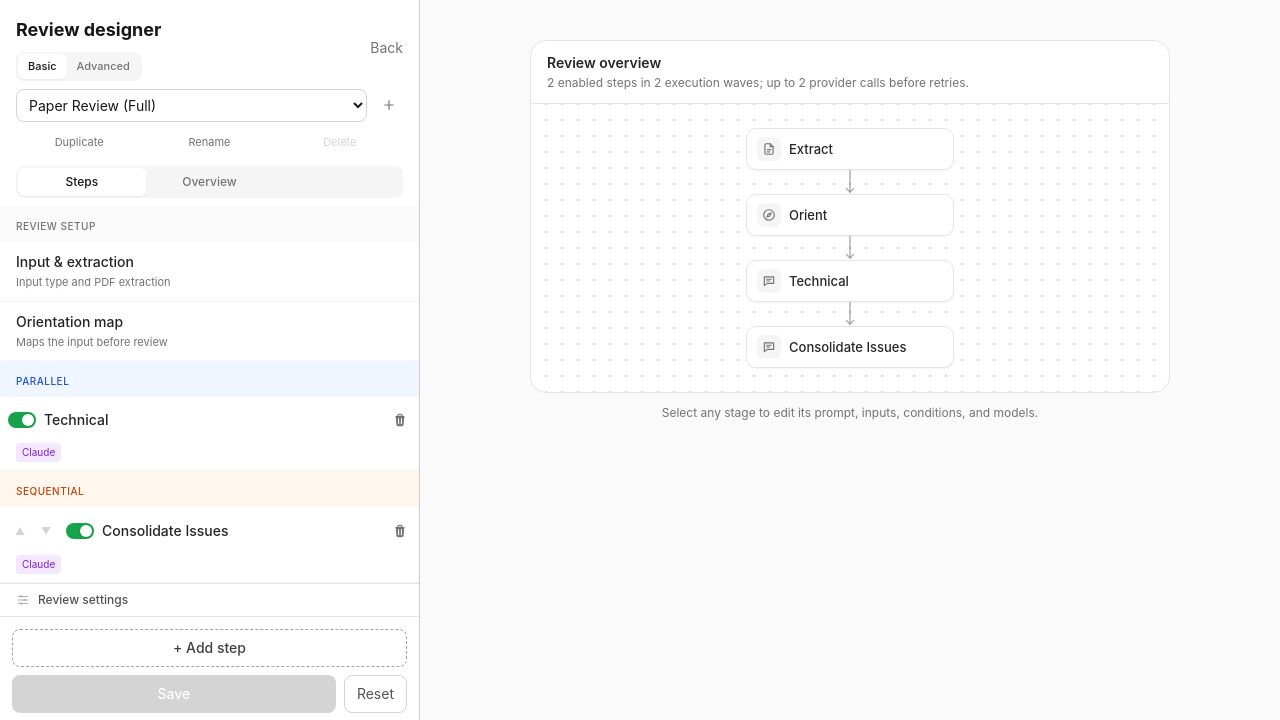
PipelinePage › uses the app's word for a review in designer dialogs
The image size is (1280, 720).
Click the button named "New review" at (389, 105), box x1=375 y1=91 x2=403 y2=119
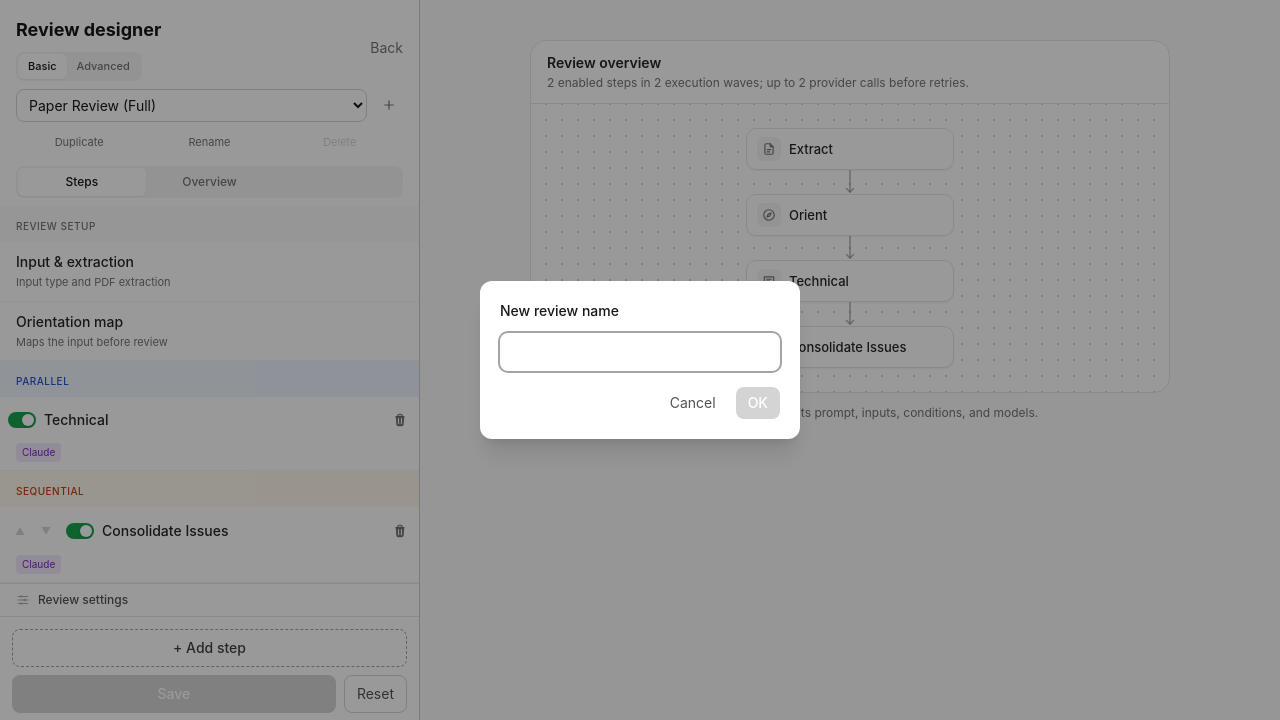
Expected: the dialog does not show "profile", x1=480 y1=281 x2=800 y2=439
Now the dialog shows "New review name", box x1=500 y1=302 x2=619 y2=319
Press Escape
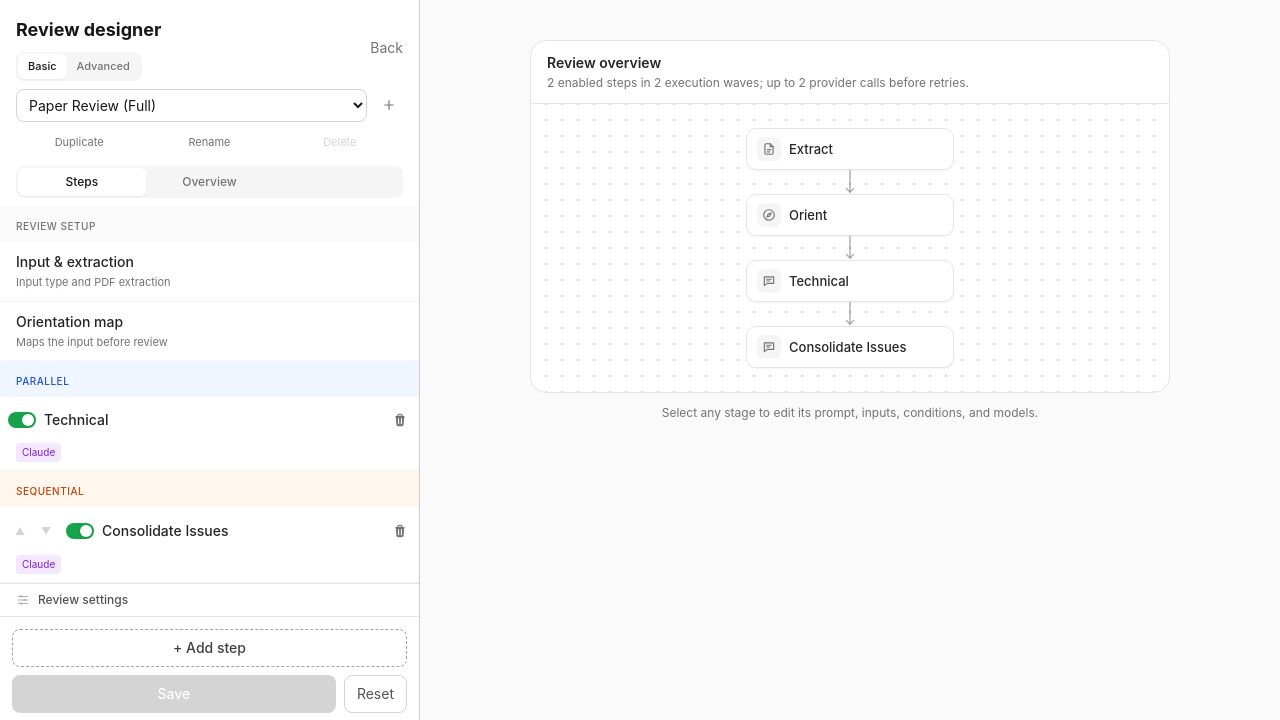
Click the button "Rename" at (209, 142), box x1=146 y1=130 x2=273 y2=154
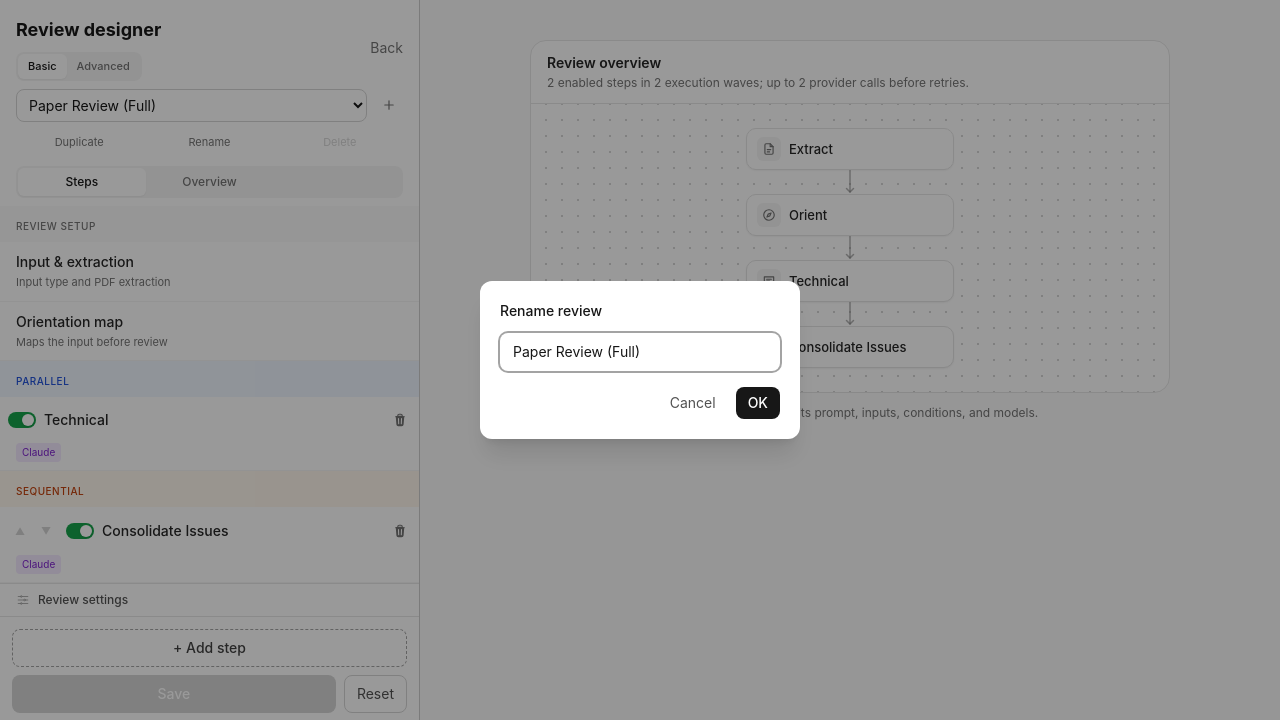
Expected: the dialog does not show "profile", x1=480 y1=281 x2=800 y2=439
Now the dialog shows "Rename review", box x1=500 y1=302 x2=602 y2=319
